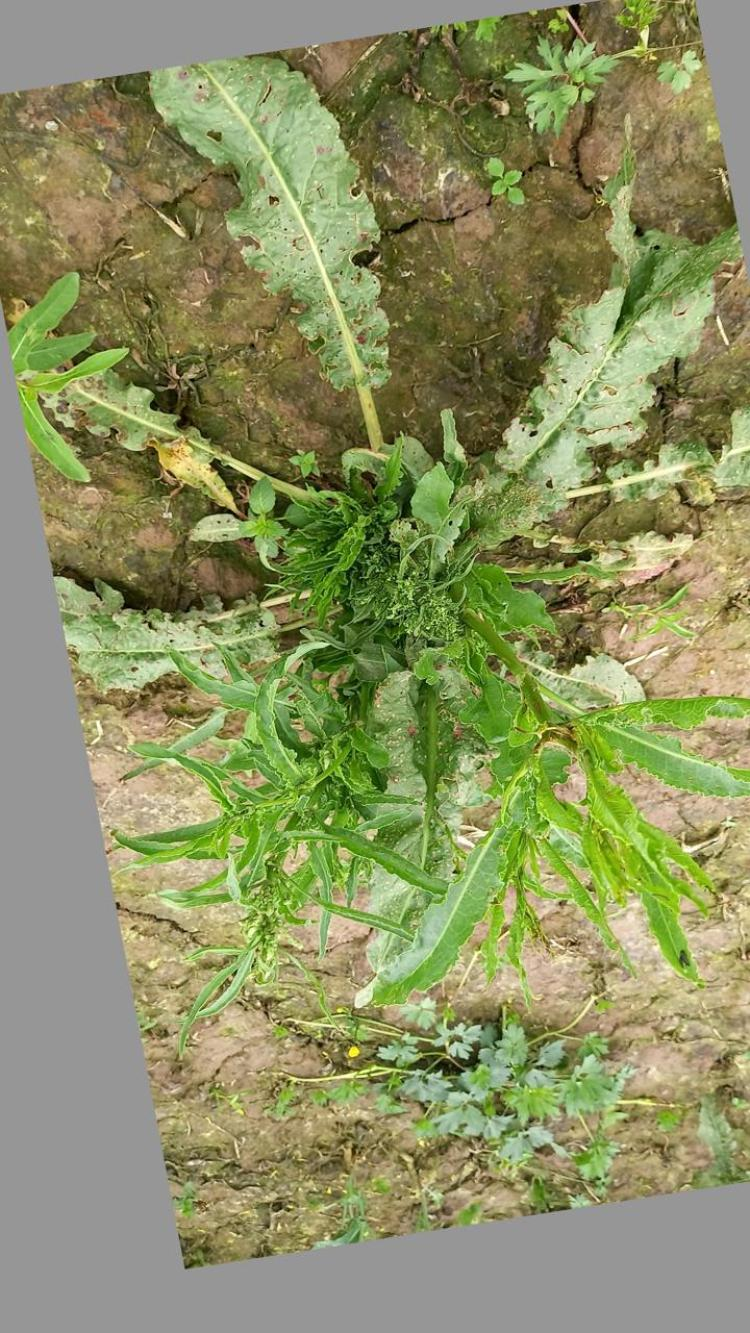zhavel: (110, 348, 750, 1010)
